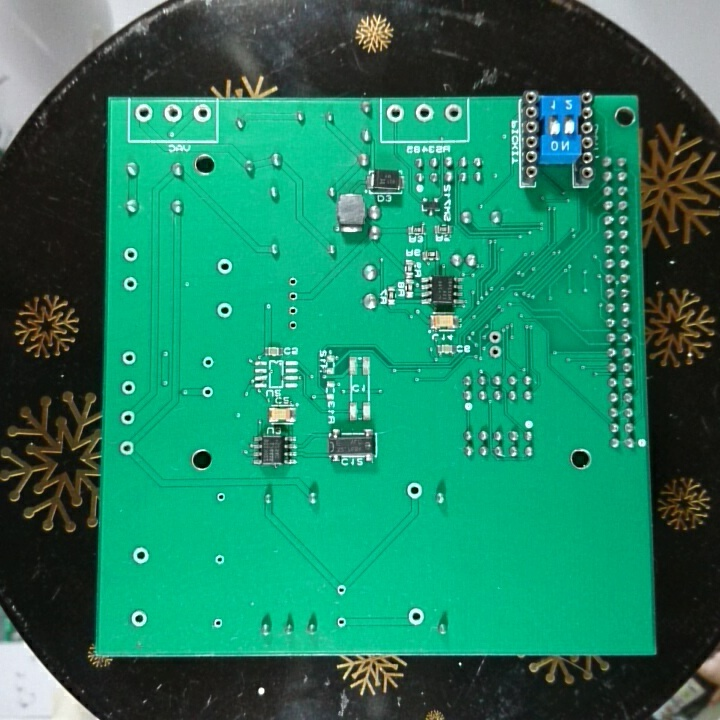F: (411, 102, 437, 125), (161, 103, 185, 126), (127, 606, 150, 629), (128, 546, 152, 568), (405, 603, 425, 629), (213, 298, 235, 321), (117, 407, 138, 429), (384, 102, 405, 124), (191, 102, 211, 125), (117, 438, 137, 460), (443, 102, 463, 124), (214, 256, 234, 277), (133, 103, 154, 123), (118, 378, 139, 397), (405, 480, 423, 502), (119, 349, 138, 369), (197, 353, 217, 372), (120, 274, 140, 293), (121, 245, 140, 265), (486, 343, 505, 361), (199, 383, 216, 402), (333, 613, 349, 631), (487, 329, 503, 345), (334, 582, 350, 598), (210, 615, 225, 632), (212, 551, 227, 567), (214, 488, 228, 504), (286, 318, 299, 332), (286, 289, 299, 303), (286, 304, 299, 317), (286, 275, 300, 287)
